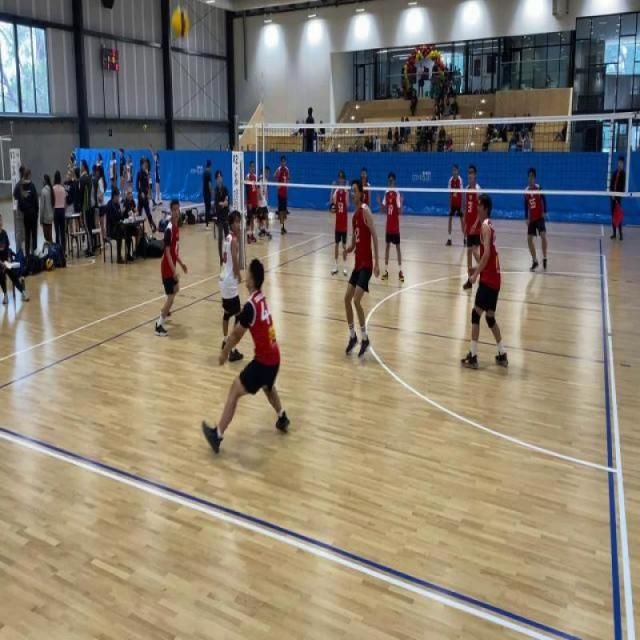volleyball: (170, 5, 190, 40), (46, 257, 54, 272), (142, 122, 148, 134), (331, 205, 336, 213), (148, 234, 153, 242)
